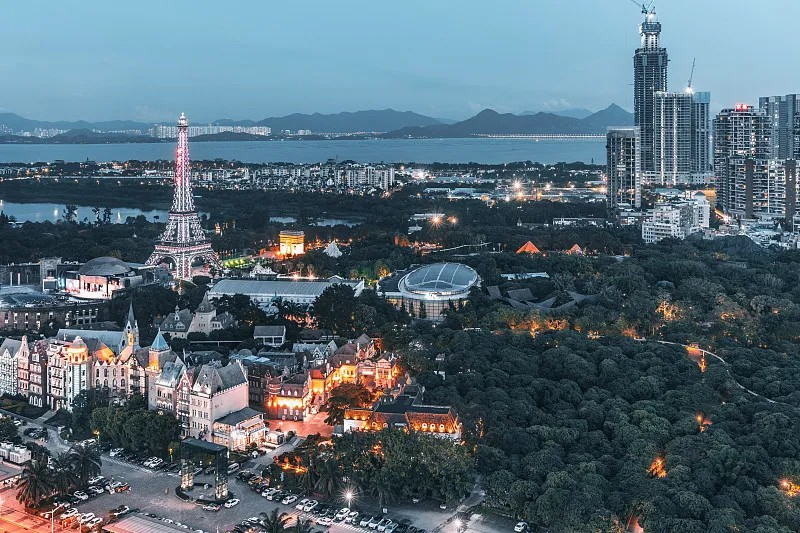Eiffel: (144, 111, 222, 281)
